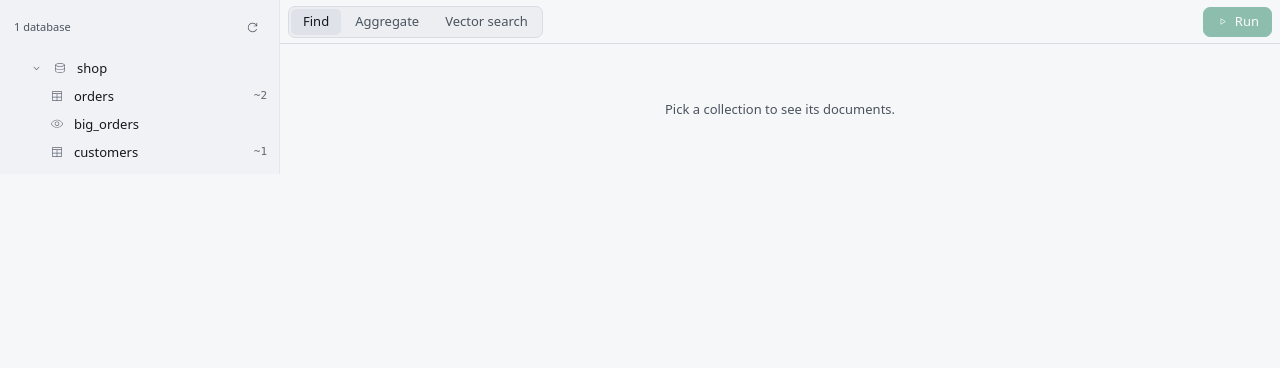
Test: MongoView › lists the connection's database and shows a collection's documents as a table
Click the button "orders ~2" at (94, 96), box [6,82,273,110]
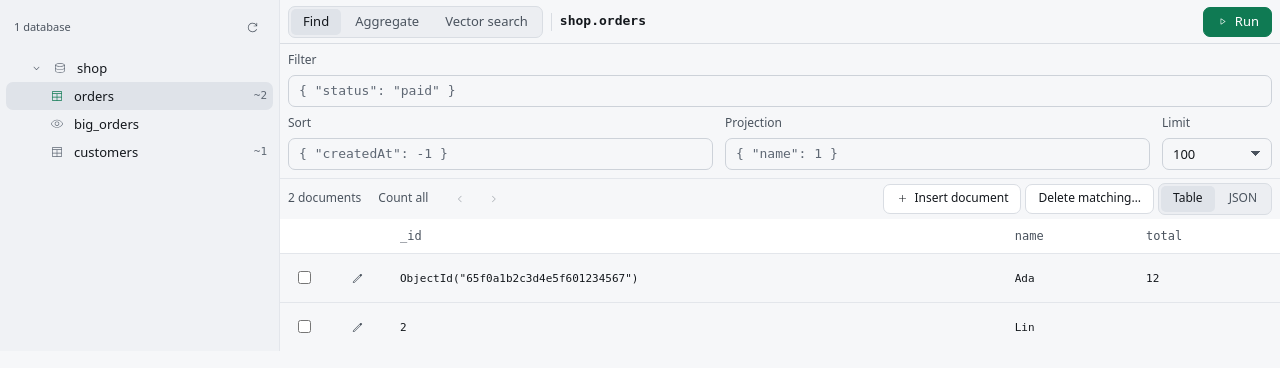
Expected: the text "2 documents" is shown, [288,190,361,207]
Expected: the text "Ada" is shown, [1001,254,1132,303]
Expected: the text "ObjectId(\"65f0a1b2c3d4e5f601234567\")" is shown, [386,254,1001,303]
